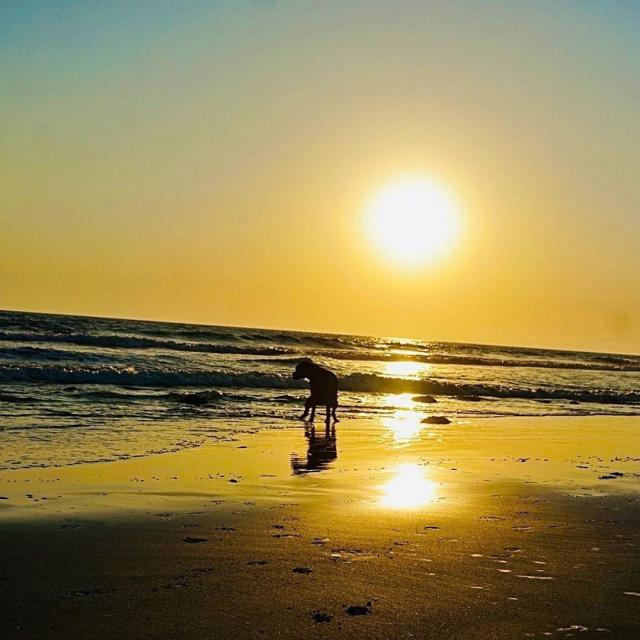squatting: (288, 356, 348, 429)
